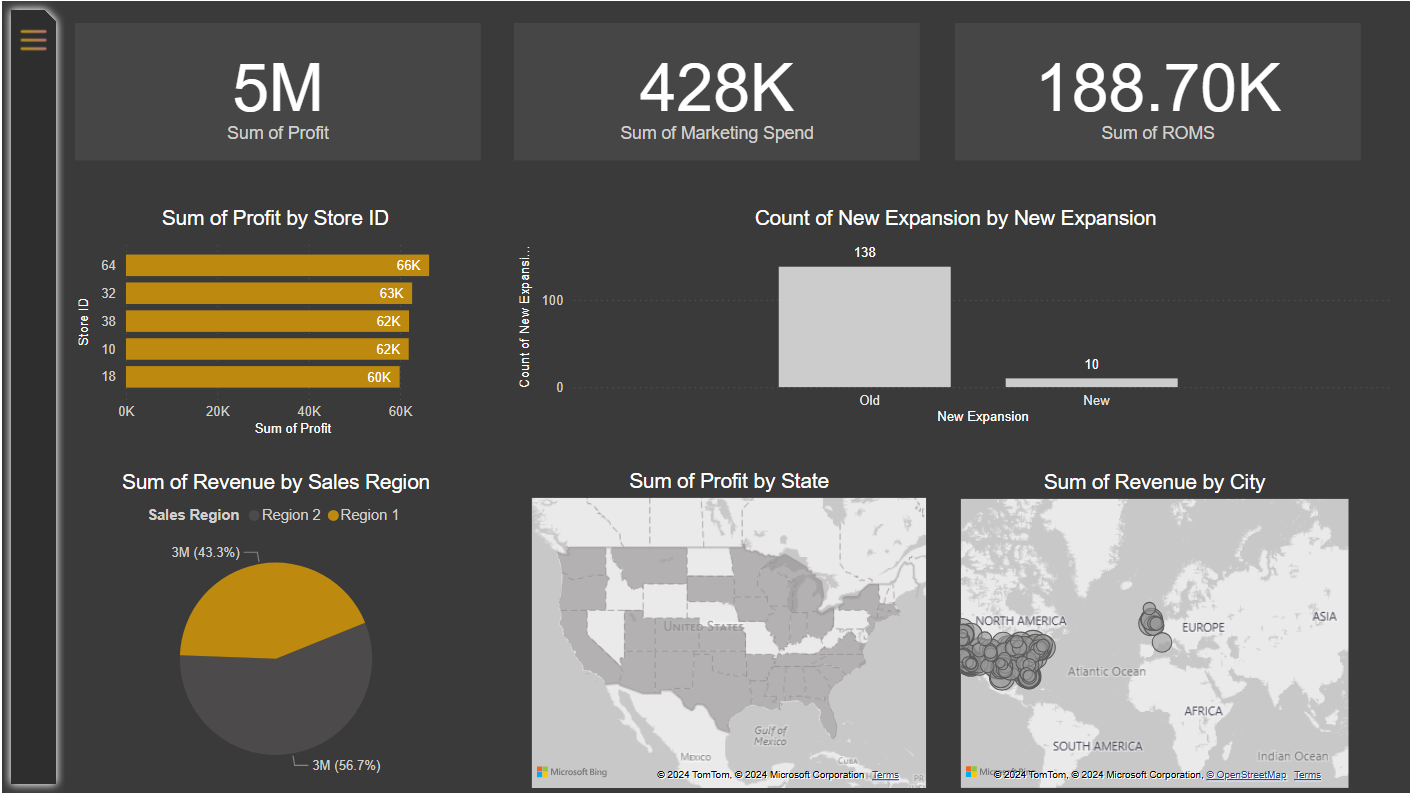

Layout of this report page (visuals, bound fields, positions):
{"tool":"powerbi","page":{"name":"OVERVIEW","canvas":[1280,720],"ordinal":0},"visuals":[{"type":"shape","title":"nav","box":[0,0,57.1,720],"z":0,"group":"g1"},{"type":"group","id":"g1","title":"Menu bar","box":[0,0,57.1,720],"z":1000},{"type":"actionButton","title":"Menu Button","box":[9.5,10.7,39.3,48.8],"z":1000,"group":"g1"},{"type":"card","fields":{"Values":["Sum(startup-expansion-modified.Profit)"]},"box":[66.1,20.4,369,125],"z":5000},{"type":"card","fields":{"Values":["Sum(startup-expansion-modified.Marketing Spend)"]},"box":[465.2,20.4,369,125],"z":6000},{"type":"card","fields":{"Values":["Sum(startup-expansion-modified.ROMS)"]},"box":[866.7,20.4,369,125],"z":7000},{"type":"clusteredBarChart","fields":{"Category":["startup-expansion-modified.Store ID"],"Y":["Sum(startup-expansion-modified.Profit)"]},"box":[64.9,186.3,367.8,214],"z":8000},{"type":"columnChart","fields":{"Category":["startup-expansion-modified.New Expansion"],"Y":["CountNonNull(startup-expansion-modified.New Expansion)"]},"box":[465.2,195.9,803,215.2],"z":9000},{"type":"map","fields":{"Category":["startup-expansion-modified.State"],"Size":["Sum(startup-expansion-modified.Profit)"]},"box":[64.9,411.1,369,308.9],"z":10000},{"type":"map","fields":{"Category":["startup-expansion-modified.City"],"Size":["Sum(startup-expansion-modified.Revenue)"]},"box":[465.2,411.1,369,308.9],"z":11000},{"type":"pieChart","fields":{"Category":["startup-expansion-modified.Sales Region"],"Y":["Sum(startup-expansion-modified.Revenue)"]},"box":[866.7,473.6,381.1,246.4],"z":12000}]}

Visuals, with their boxes in screenshot pixels (x1, y1, x2, y2), scaled from the page's 1280x720 canvas onto the 1411x794 screenshot:
"nav" shape: {"left": 0, "top": 0, "right": 63, "bottom": 793}
"Menu bar" group: {"left": 0, "top": 0, "right": 63, "bottom": 793}
"Menu Button" actionButton: {"left": 10, "top": 12, "right": 54, "bottom": 66}
card - Sum(startup-expansion-modified.Profit): {"left": 73, "top": 22, "right": 480, "bottom": 160}
card - Sum(startup-expansion-modified.Marketing Spend): {"left": 513, "top": 22, "right": 920, "bottom": 160}
card - Sum(startup-expansion-modified.ROMS): {"left": 955, "top": 22, "right": 1362, "bottom": 160}
clusteredBarChart - startup-expansion-modified.Store ID x Sum(startup-expansion-modified.Profit): {"left": 72, "top": 205, "right": 477, "bottom": 441}
columnChart - startup-expansion-modified.New Expansion x CountNonNull(startup-expansion-modified.New Expansion): {"left": 513, "top": 216, "right": 1398, "bottom": 453}
map - startup-expansion-modified.State x Sum(startup-expansion-modified.Profit): {"left": 72, "top": 453, "right": 478, "bottom": 793}
map - startup-expansion-modified.City x Sum(startup-expansion-modified.Revenue): {"left": 513, "top": 453, "right": 920, "bottom": 793}
pieChart - startup-expansion-modified.Sales Region x Sum(startup-expansion-modified.Revenue): {"left": 955, "top": 522, "right": 1376, "bottom": 793}
